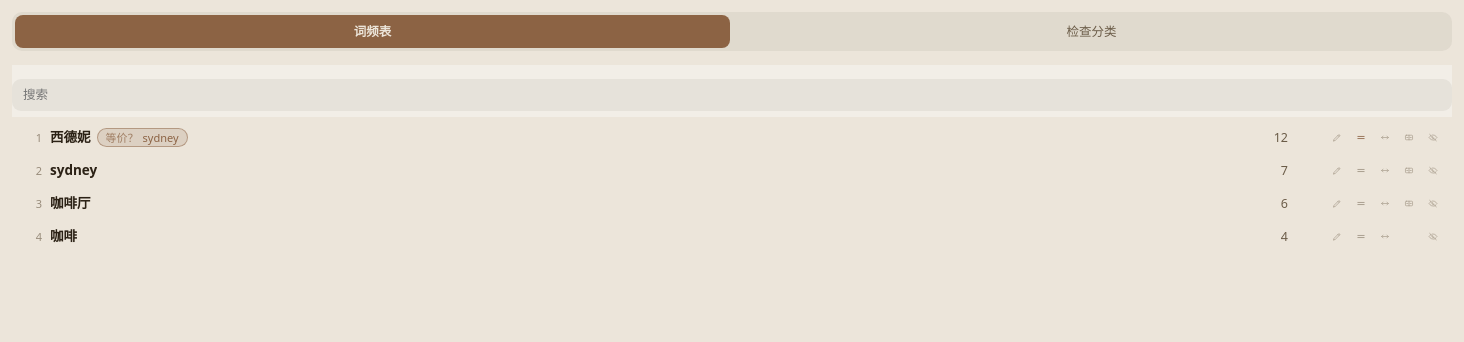
it: equivalence vocabulary › every state of the button leads with the feature name
The image size is (1464, 342).
// And the mode it opens announces itself by the same name.
Click the button titled "等价：" at (1361, 137), box x1=1350 y1=126 x2=1372 y2=148
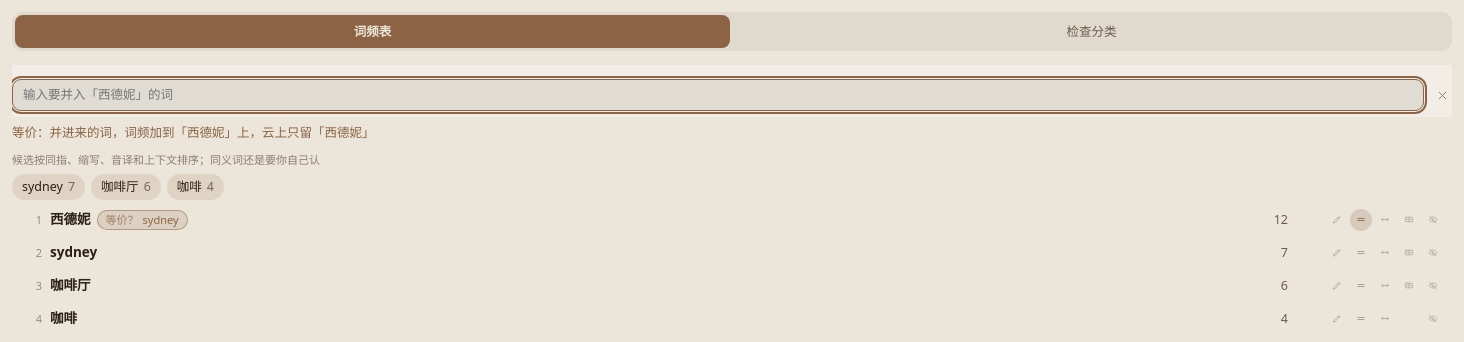
Check: the text "等价：并进来的词，词频加到「西德妮」上，云上只留「西德妮」" is shown, box x1=12 y1=124 x2=374 y2=141
